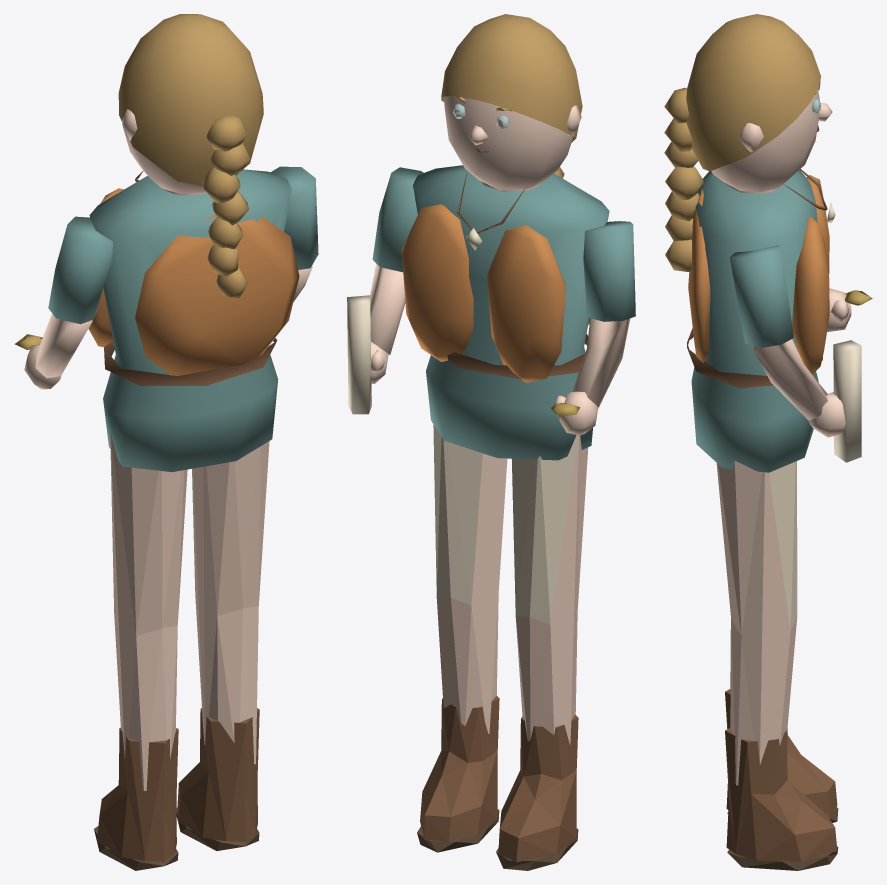
The model's file is SM_NPC_CORAL_MEDIA.glb.
3 renders of one model, left to right at view 1: azimuth 30°, elevation 25°; view 2: azimuth 150°, elevation 25°; view 3: azimuth 270°, elevation 25°, orthographic. The views are drawn at different scales.
Parts seen in each view (by area): view 1: SM_NPC_CORAL_BODY, SM_NPC_CORAL_HEAD, SM_NPC_CORAL_ARM_L, SM_NPC_CORAL_ARM_R; view 2: SM_NPC_CORAL_BODY, SM_NPC_CORAL_HEAD, SM_NPC_CORAL_ARM_L, SM_NPC_CORAL_ARM_R; view 3: SM_NPC_CORAL_BODY, SM_NPC_CORAL_HEAD, SM_NPC_CORAL_ARM_R, SM_NPC_CORAL_ARM_L.
Part boxes in pixels (bbox=[...]): SM_NPC_CORAL_BODY: bbox=[88, 169, 299, 870]; SM_NPC_CORAL_HEAD: bbox=[118, 14, 263, 298]; SM_NPC_CORAL_ARM_L: bbox=[15, 216, 112, 389]; SM_NPC_CORAL_ARM_R: bbox=[270, 166, 318, 301]; SM_NPC_CORAL_BODY: bbox=[401, 165, 609, 870]; SM_NPC_CORAL_HEAD: bbox=[441, 14, 582, 190]; SM_NPC_CORAL_ARM_L: bbox=[550, 221, 635, 435]; SM_NPC_CORAL_ARM_R: bbox=[347, 167, 423, 414]; SM_NPC_CORAL_BODY: bbox=[687, 169, 838, 870]; SM_NPC_CORAL_HEAD: bbox=[664, 14, 832, 271]; SM_NPC_CORAL_ARM_R: bbox=[729, 245, 861, 462]; SM_NPC_CORAL_ARM_L: bbox=[827, 288, 872, 331].
Size of the model in its own units: 0.5981 by 1.81 by 0.4182.
